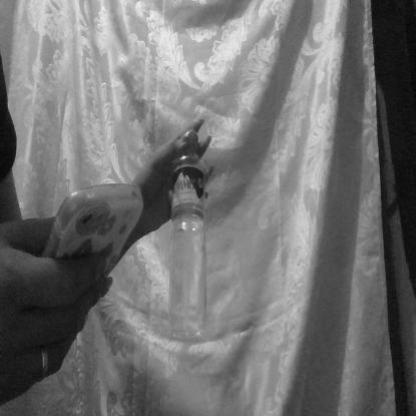Plastic Bottle: (156, 107, 246, 393)
